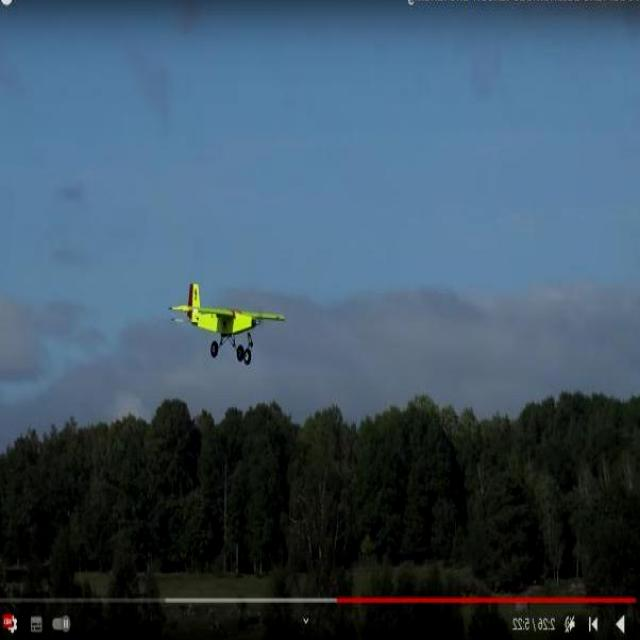plane: (167, 280, 286, 366)
